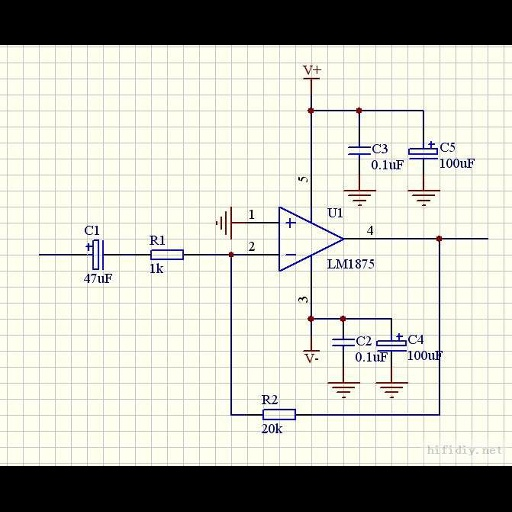amplifier: (274, 207, 345, 274)
capacitor: (343, 141, 372, 158), (329, 335, 356, 350)
firstresistance: (257, 407, 302, 422), (147, 247, 189, 262)
gnd: (212, 205, 236, 241), (324, 380, 364, 399), (373, 380, 413, 399), (341, 188, 380, 207), (404, 189, 443, 208)
secondpolarcapacitor: (83, 237, 112, 271), (407, 138, 439, 166), (376, 331, 408, 355)
